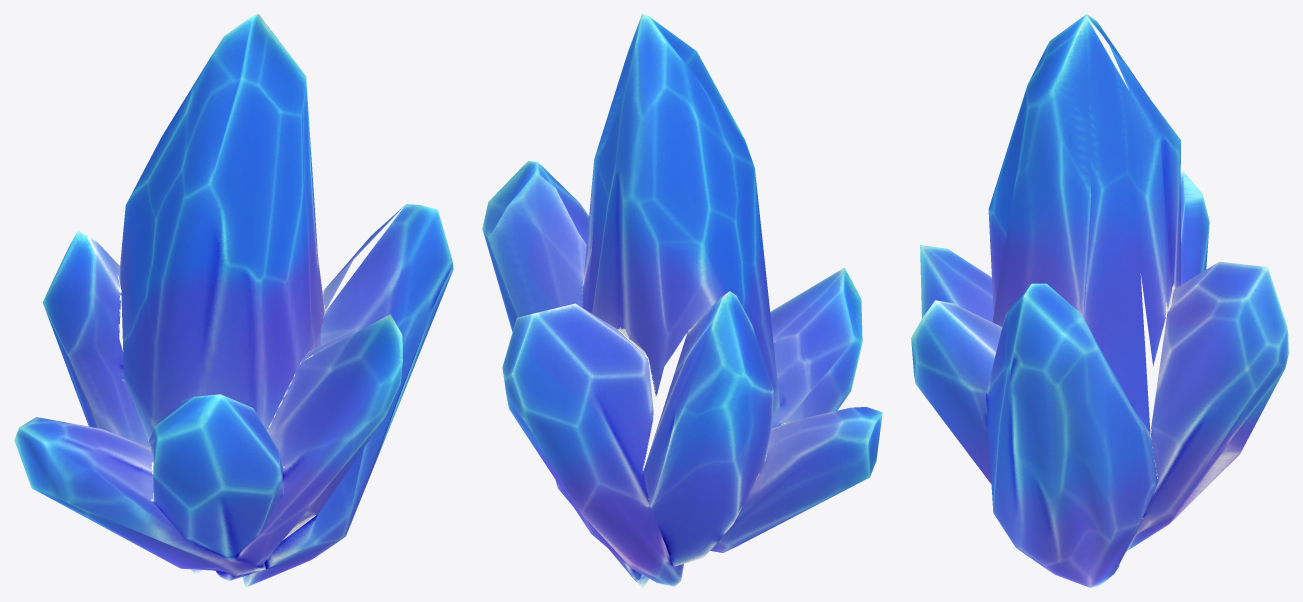
The model's file is crystal.glb.
The picture shows the model from 3 angles, left to right: view 1: azimuth 30°, elevation 25°; view 2: azimuth 150°, elevation 25°; view 3: azimuth 270°, elevation 25°; orthographic projection.
Parts seen in each view (by area): view 1: Object_6; view 2: Object_6; view 3: Object_6.
Boxes of the visible parts, x1,y1,x2,y2 form: Object_6: (14, 14, 453, 587); Object_6: (482, 14, 882, 587); Object_6: (911, 14, 1288, 587).
Bounding box in the file's own units: 1.2 × 1.62 × 0.9674.
Materials: 1 (1 with a texture image).
